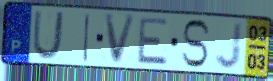E: (136, 16, 171, 67)
I: (81, 12, 92, 63)
J: (214, 20, 244, 71)
S: (180, 17, 212, 69)
U: (31, 9, 66, 61)
V: (103, 14, 139, 66)
